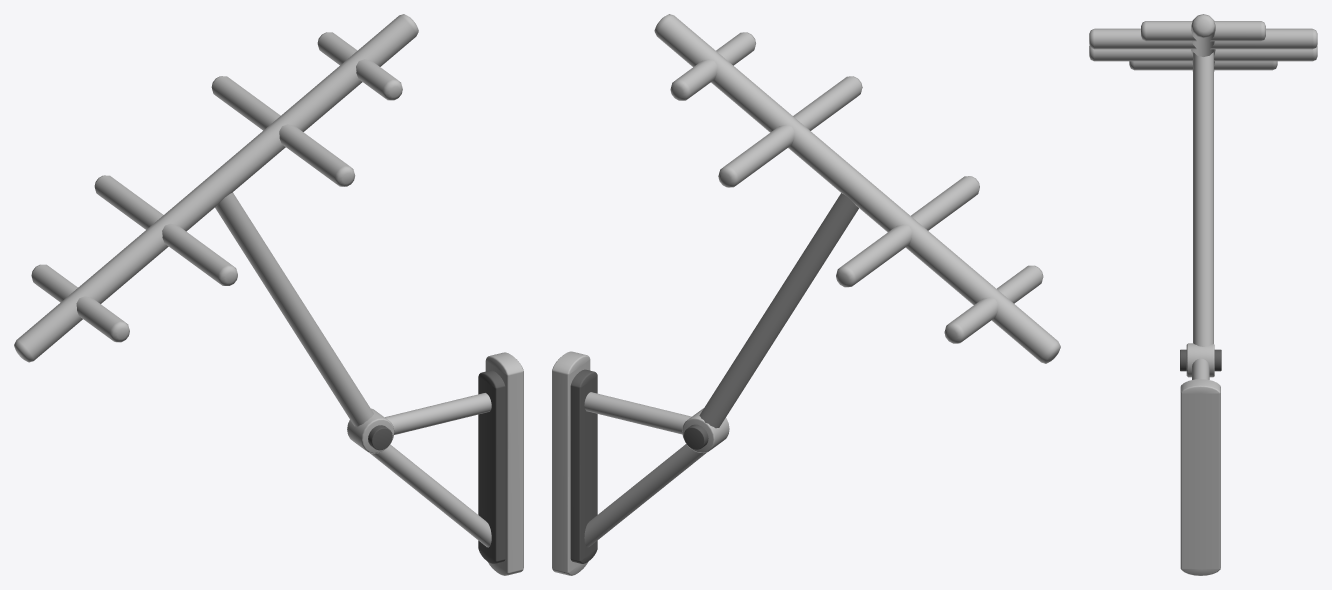
The model's file is City_8_Antenna_1.glb.
The picture shows the model from 3 angles, left to right: view 1: azimuth 30°, elevation 25°; view 2: azimuth 150°, elevation 25°; view 3: azimuth 270°, elevation 25°; orthographic projection. The views are drawn at different scales.
Visible parts, largest first — view 1: City_8_Antenna_1; view 2: City_8_Antenna_1; view 3: City_8_Antenna_1.
Part boxes in pixels (x1,y1,x2,y2): City_8_Antenna_1: (14,14,523,575); City_8_Antenna_1: (552,14,1060,575); City_8_Antenna_1: (1089,14,1317,575).
Size of the model in its own units: 2.59 by 2.9 by 1.16.
1 material, 1 textured.
